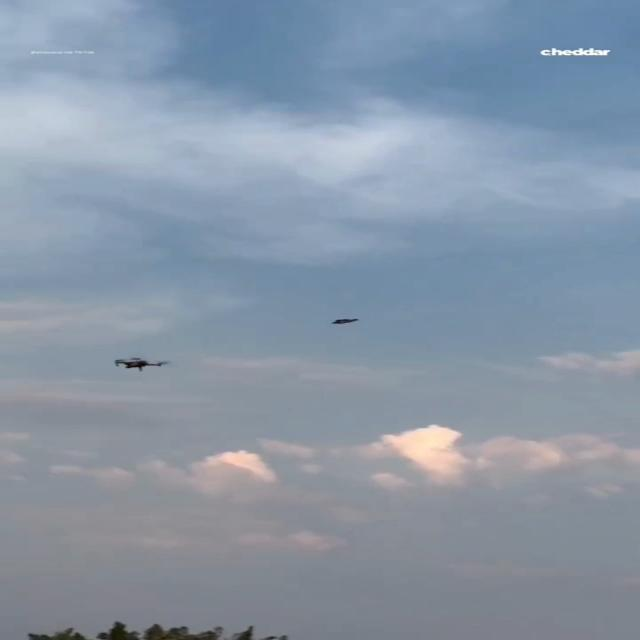bird: (331, 318, 358, 324)
drone: (114, 357, 169, 371)
